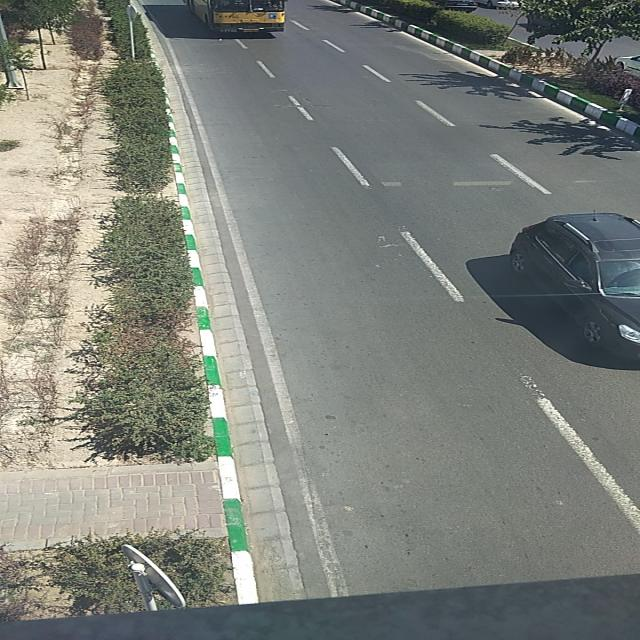bus: (184, 0, 290, 32)
car: (510, 212, 640, 364)
